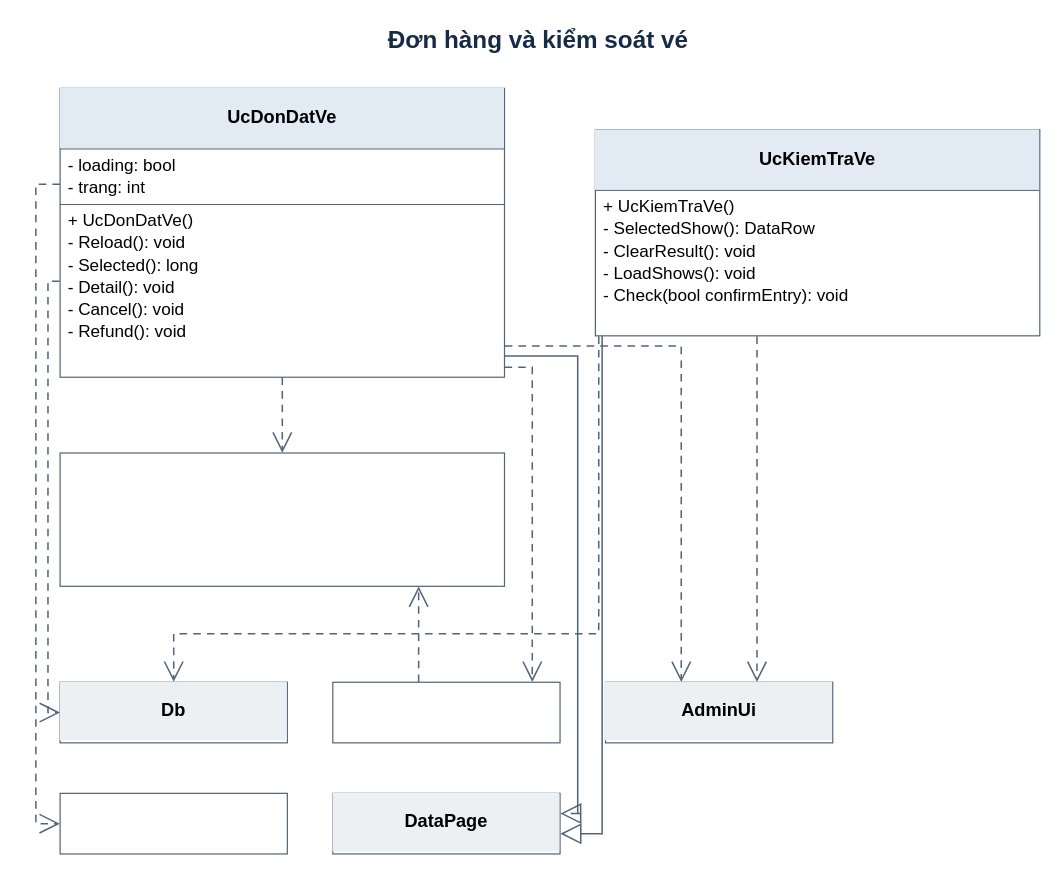
Image size: 1063x872. Some labels were removed from this diagram. Each missing label, with the centre of its shape:
"GiaoDichDAL" goes at (x=446, y=712).
"HoaDonExporter" goes at (x=173, y=823).
"«record» GiaoDichDAL.TrangDon + DuLieu: DataTable + TongKetQua: int" goes at (x=282, y=519).
